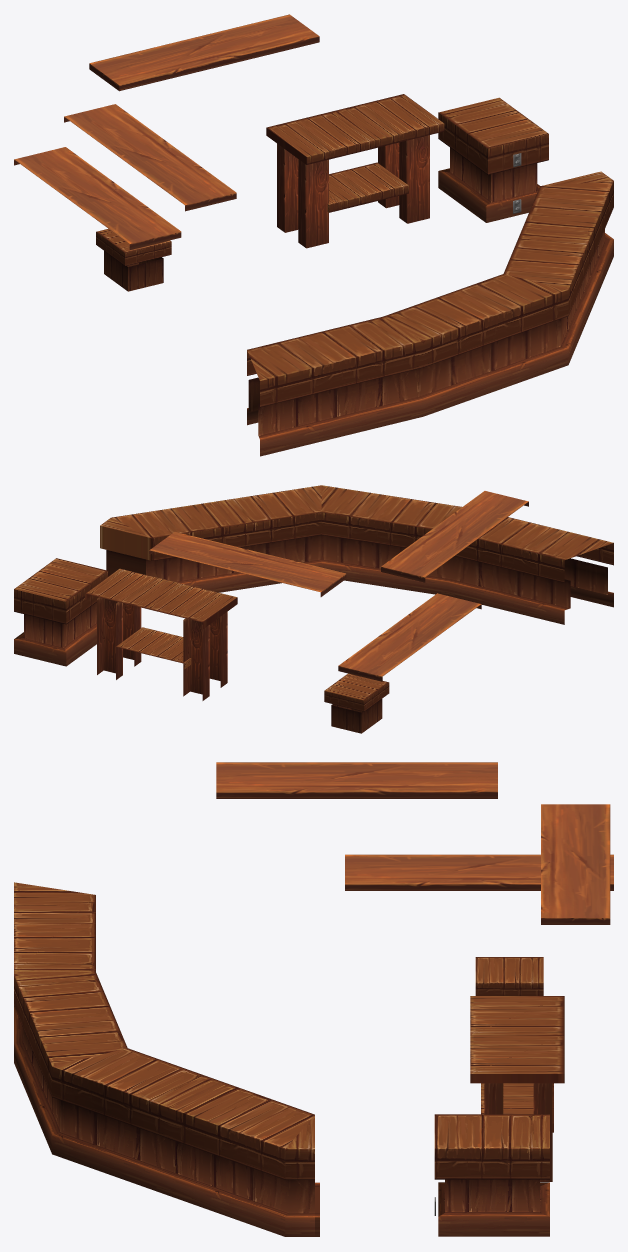
Rendered from BaTai01.FBX.
3 renders of one model, top to bottom at view 1: azimuth 30°, elevation 25°; view 2: azimuth 150°, elevation 25°; view 3: azimuth 270°, elevation 25°, orthographic. The views are drawn at different scales.
Visible parts, largest first — view 1: batai_01; view 2: batai_01; view 3: batai_01.
Part boxes in pixels (x1,y1,x2,y2): batai_01: [14, 14, 613, 456]; batai_01: [14, 485, 613, 733]; batai_01: [14, 762, 613, 1236].
Size of the model in its own units: 382 by 144 by 363.
